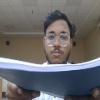notebook: (0, 52, 99, 97)
